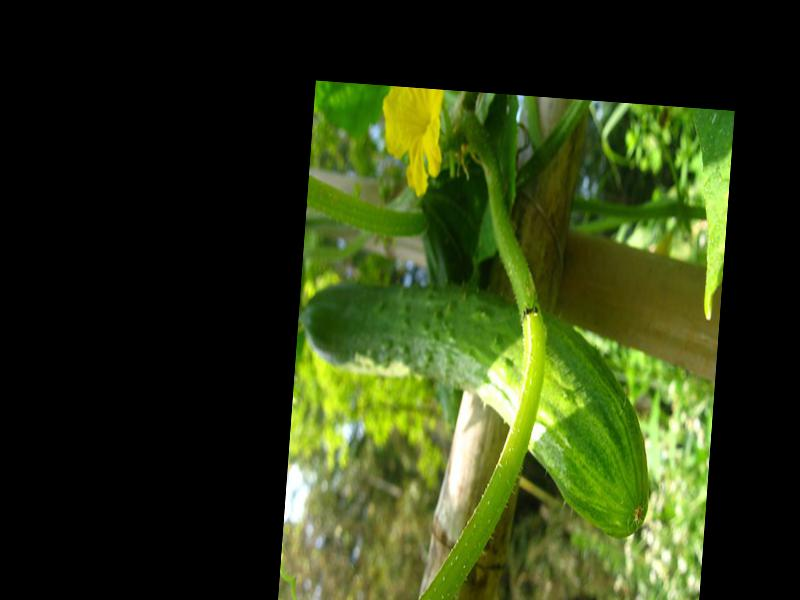Cucumber: (287, 276, 663, 536)
